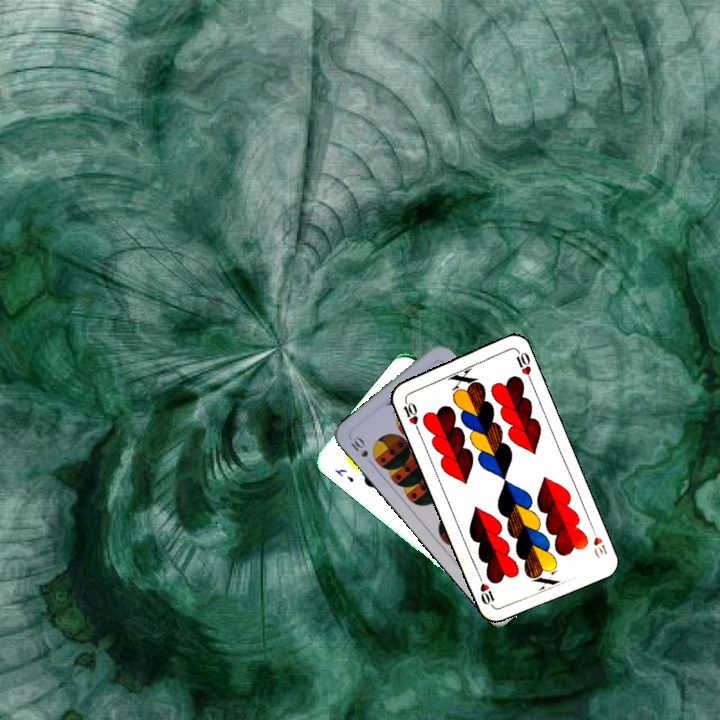EK: (330, 465, 356, 485)
H10: (399, 395, 422, 434), (587, 522, 610, 557)
S10: (346, 432, 376, 468)
